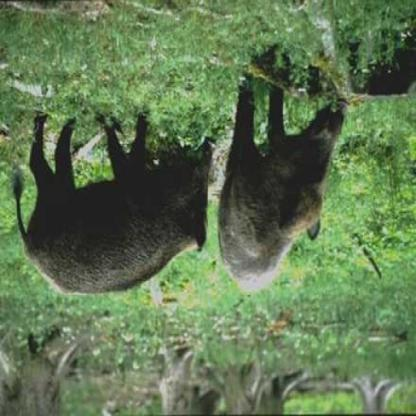boar: (4, 101, 222, 295), (216, 79, 355, 305)
